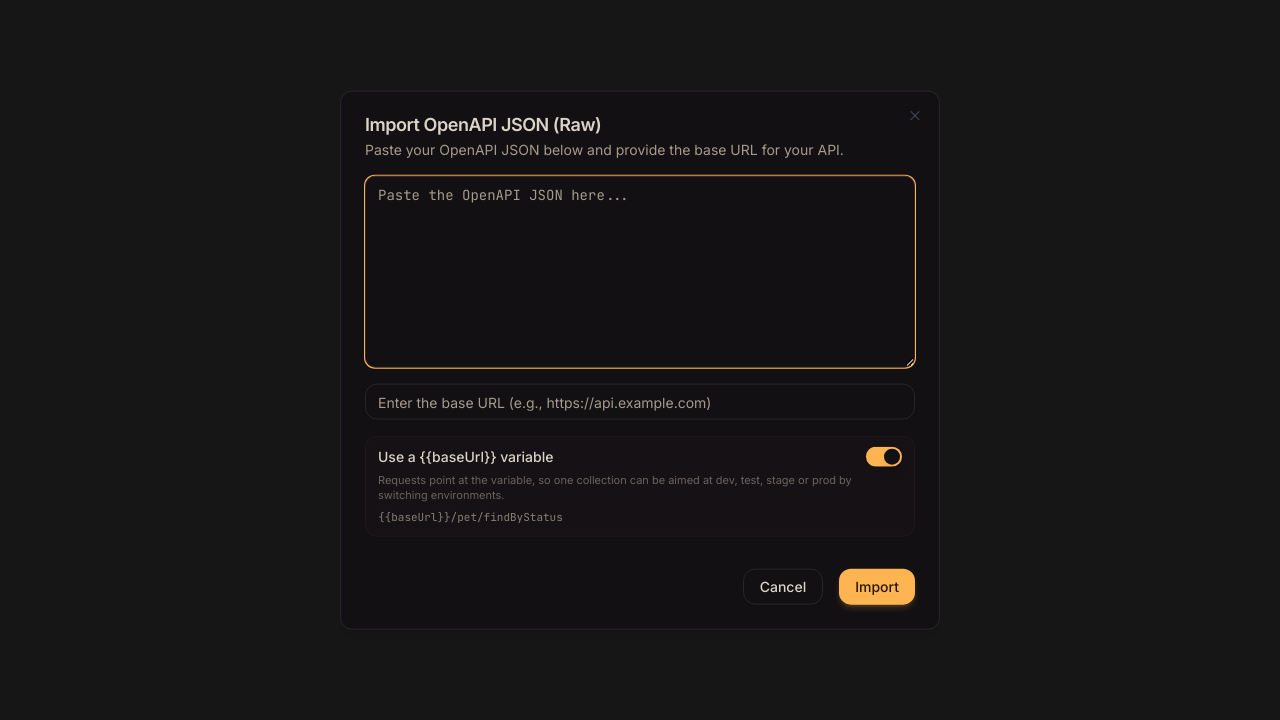
Test: OpenapiImportModal › validates invalid JSON input
In the text box with placeholder "Paste the OpenAPI JSON here...": (640, 272) [365,176,915,368], type "invalid json"
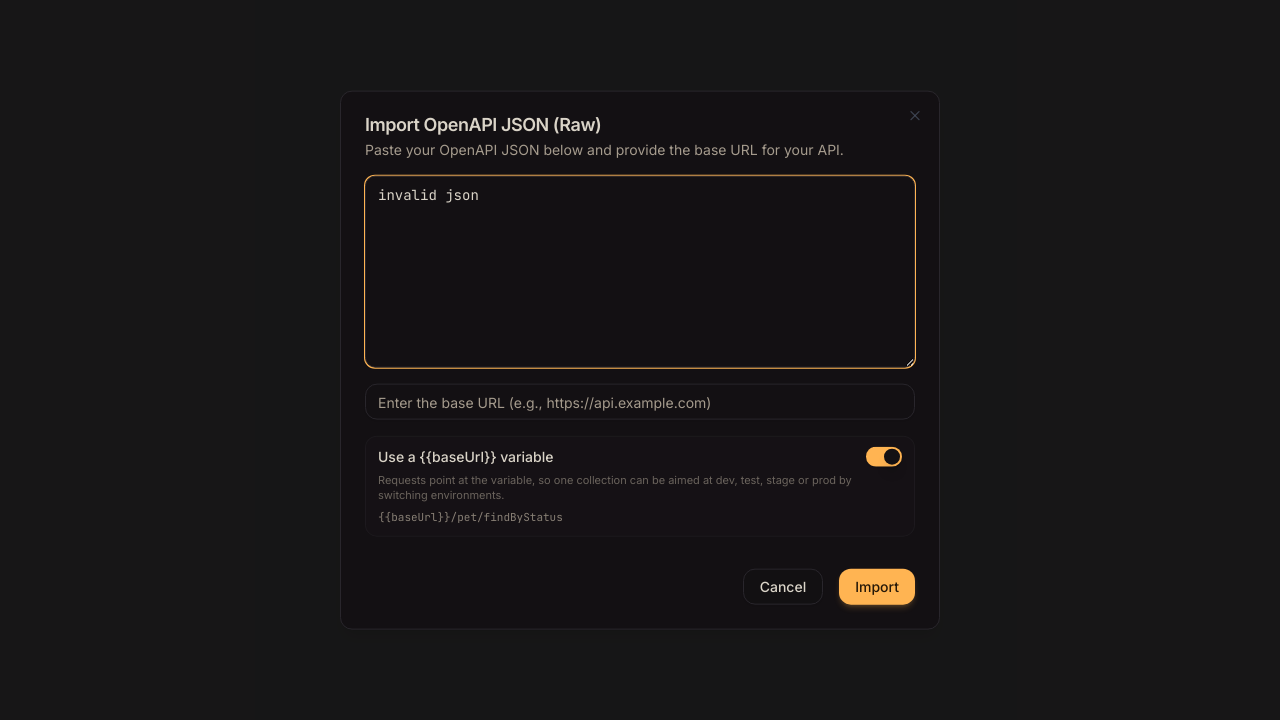
Click the button "Import": (877, 586) [839,568,915,604]
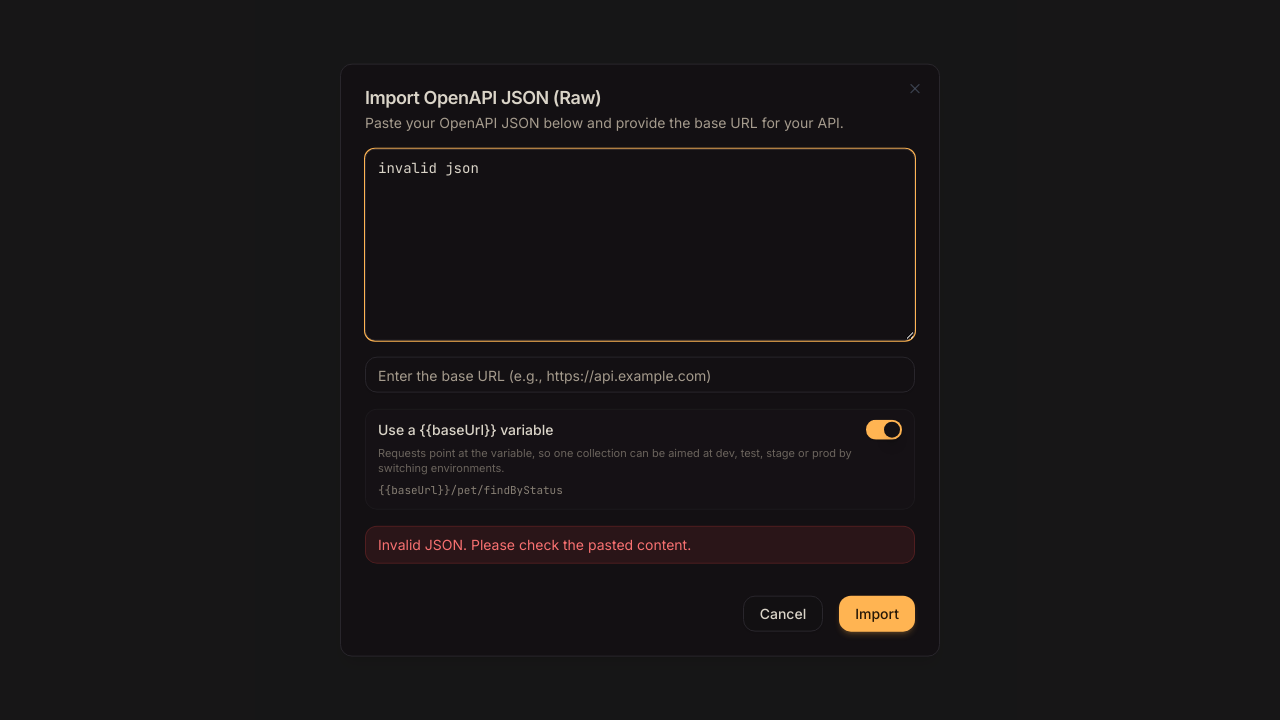
Check: the text "Invalid JSON. Please check the pasted content." is shown, box [365,525,915,563]
